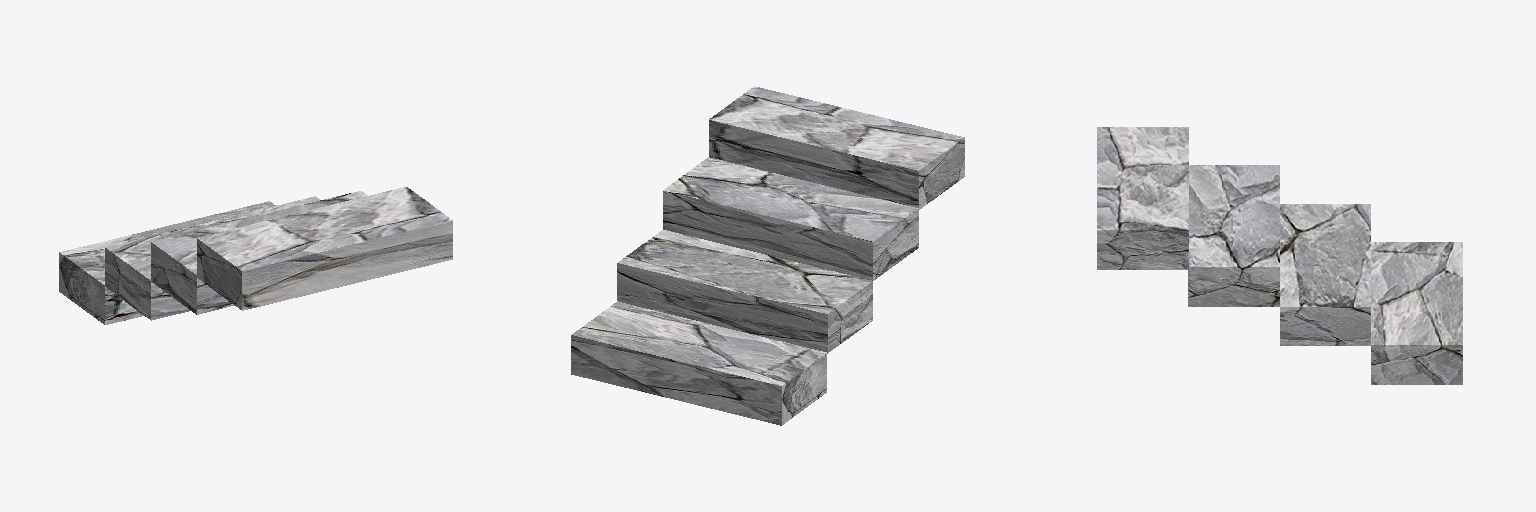
3 views of the same model, side by side, from view 1: azimuth 30°, elevation 25°; view 2: azimuth 150°, elevation 25°; view 3: azimuth 270°, elevation 25° (orthographic).
Visible parts, largest first — view 1: group18 pasted__pasted__pasted__pCube1, pasted__pasted__pCube1 group18, group18 pCube1, group18 pasted__pCube1; view 2: group18 pCube1, pasted__pasted__pCube1 group18, group18 pasted__pCube1, group18 pasted__pasted__pasted__pCube1; view 3: group18 pCube1, group18 pasted__pasted__pasted__pCube1, pasted__pasted__pCube1 group18, group18 pasted__pCube1.
Part boxes in pixels (x1,y1,x2,y2): group18 pasted__pasted__pasted__pCube1: (197,187,452,310); pasted__pasted__pCube1 group18: (151,191,367,314); group18 pCube1: (59,201,275,324); group18 pasted__pCube1: (105,196,319,320); group18 pCube1: (571,301,826,425); pasted__pasted__pCube1 group18: (663,157,918,280); group18 pasted__pCube1: (617,230,872,353); group18 pasted__pasted__pasted__pCube1: (709,86,964,209); group18 pCube1: (1371,242,1462,384); group18 pasted__pasted__pasted__pCube1: (1097,127,1188,269); pasted__pasted__pCube1 group18: (1188,165,1279,306); group18 pasted__pCube1: (1280,204,1370,345).
Bounding box in the file's own units: 2.65 × 1.86 × 3.99.
1 materials, 1 textured.